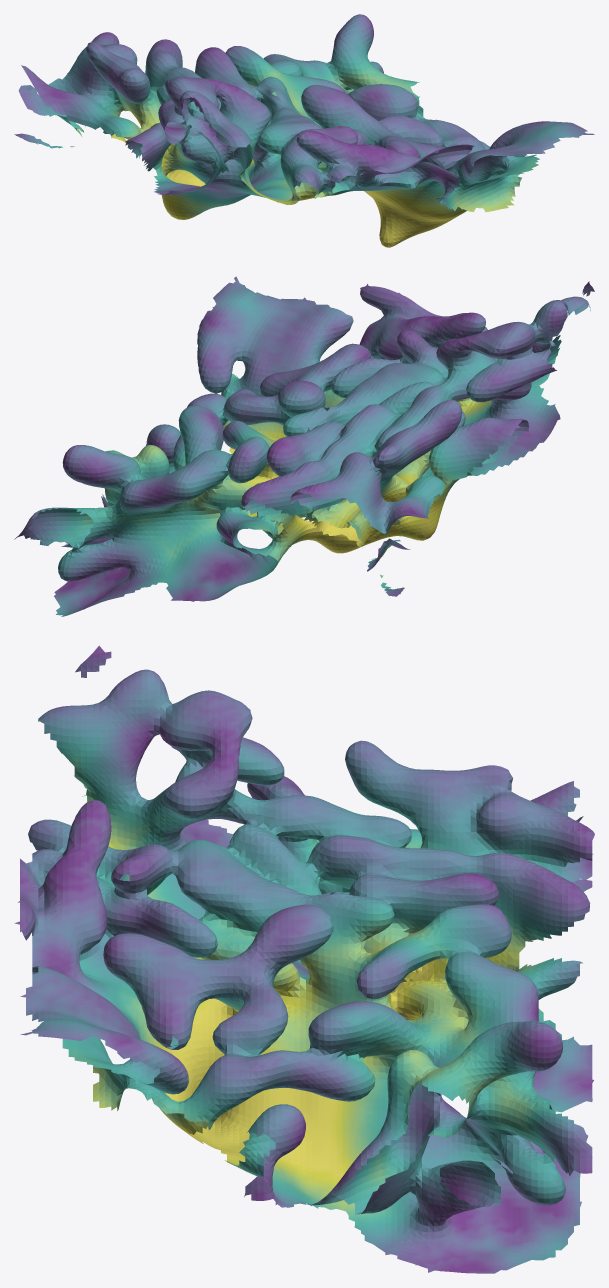
Rendered from crop1041_gap.glb.
3 views of the same model, one above another, from view 1: azimuth 30°, elevation 25°; view 2: azimuth 150°, elevation 25°; view 3: azimuth 270°, elevation 25° (orthographic). The views are drawn at different scales.
Parts seen in each view (by area): view 1: world; view 2: world; view 3: world.
Part boxes in pixels (x1,y1,x2,y2): world: [14, 14, 594, 247]; world: [14, 276, 594, 616]; world: [14, 645, 594, 1273].
Bounding box in the file's own units: 1536 × 1113 × 1527.
